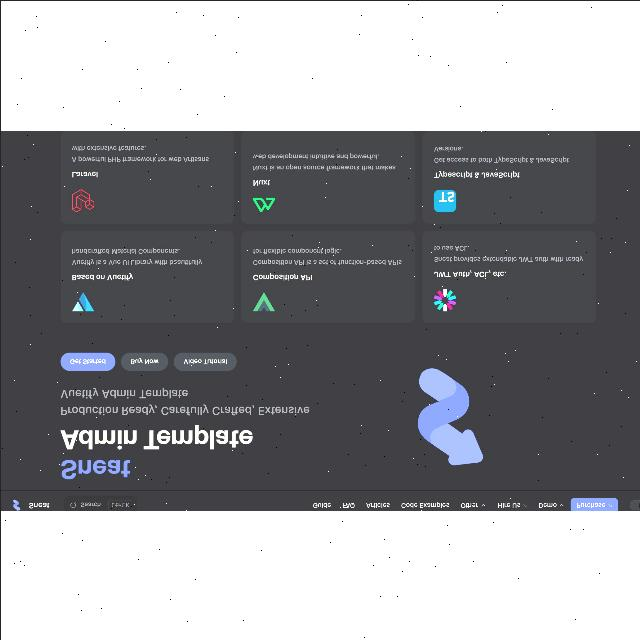QLabel: (57, 387, 310, 415), (60, 424, 252, 450), (432, 244, 584, 262), (251, 246, 401, 264), (251, 152, 395, 170), (70, 144, 208, 162), (432, 144, 568, 162), (70, 247, 202, 265), (60, 456, 130, 479), (433, 169, 519, 179), (69, 273, 133, 281), (252, 272, 314, 280), (434, 270, 506, 276), (399, 500, 449, 508), (182, 358, 230, 364), (68, 358, 106, 364), (576, 500, 604, 508), (70, 170, 98, 177), (365, 500, 389, 508), (128, 358, 158, 364), (28, 500, 50, 508), (496, 502, 520, 508), (252, 178, 270, 186), (312, 501, 331, 507), (537, 501, 555, 507), (459, 501, 476, 507), (341, 502, 354, 508)
VAppBar: (0, 488, 640, 510)
VBtn: (172, 351, 236, 371), (59, 352, 114, 371), (120, 351, 168, 371), (570, 496, 616, 509)
VCard: (58, 228, 234, 322), (420, 228, 596, 322), (239, 130, 415, 224), (422, 130, 596, 224), (59, 130, 233, 224), (240, 229, 414, 323)
VDivider: (620, 498, 622, 510)
VIcon: (479, 502, 485, 506), (606, 502, 612, 506), (521, 503, 525, 507), (558, 502, 562, 506)
VImg: (411, 365, 485, 467), (430, 287, 458, 311), (69, 188, 95, 212), (432, 188, 456, 212), (70, 290, 96, 312), (251, 290, 275, 312), (249, 194, 275, 212), (10, 498, 20, 510)
VSwitch: (628, 498, 640, 509)
VTextField: (62, 494, 136, 510)
